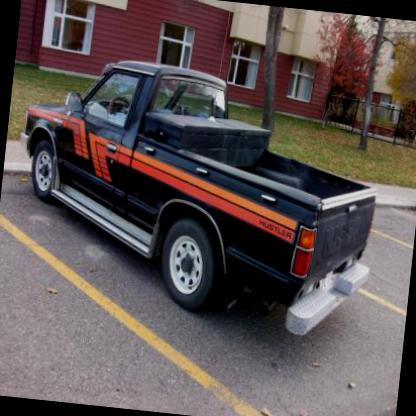truck: (0, 55, 398, 340)
